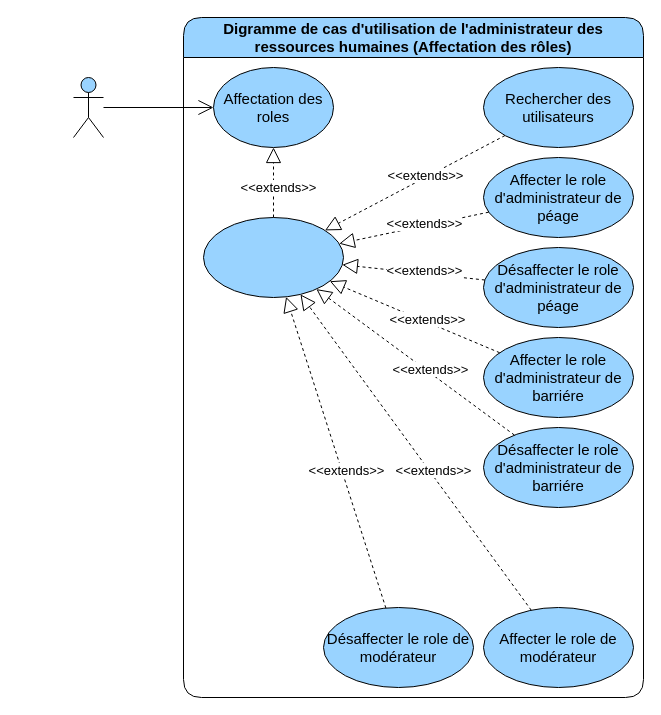
This 661x715 diagram has some shape labels left out. The shapes that lost their labels are listed below. From the top down, each one's centre as x and y in pixels, then its label:
the point at 88,107: Administrateur des ressources humaines
the point at 273,257: Consulter la liste globale des utilisateurs
